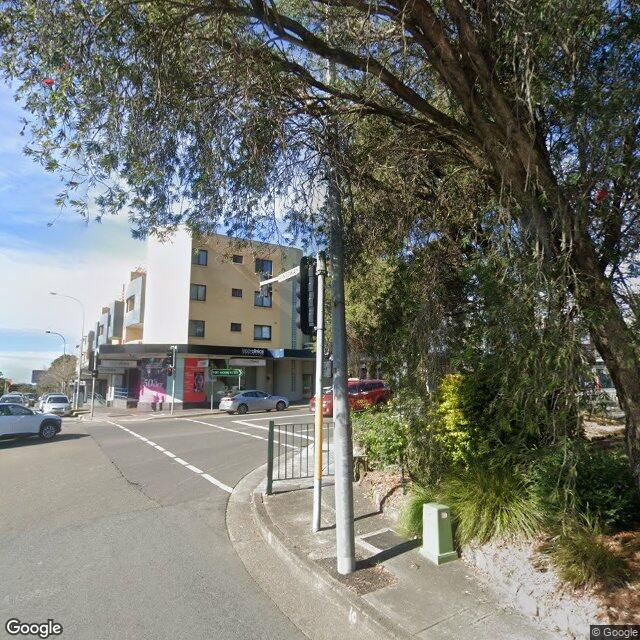steel-pole: (327, 170, 358, 574), (312, 252, 326, 532), (76, 304, 85, 409), (91, 356, 97, 417), (171, 346, 176, 415), (63, 338, 65, 394)
streetlight: (49, 292, 83, 305), (46, 330, 64, 340)
traffic-light: (295, 256, 316, 336), (166, 348, 174, 365), (92, 370, 98, 378), (167, 368, 172, 376)
